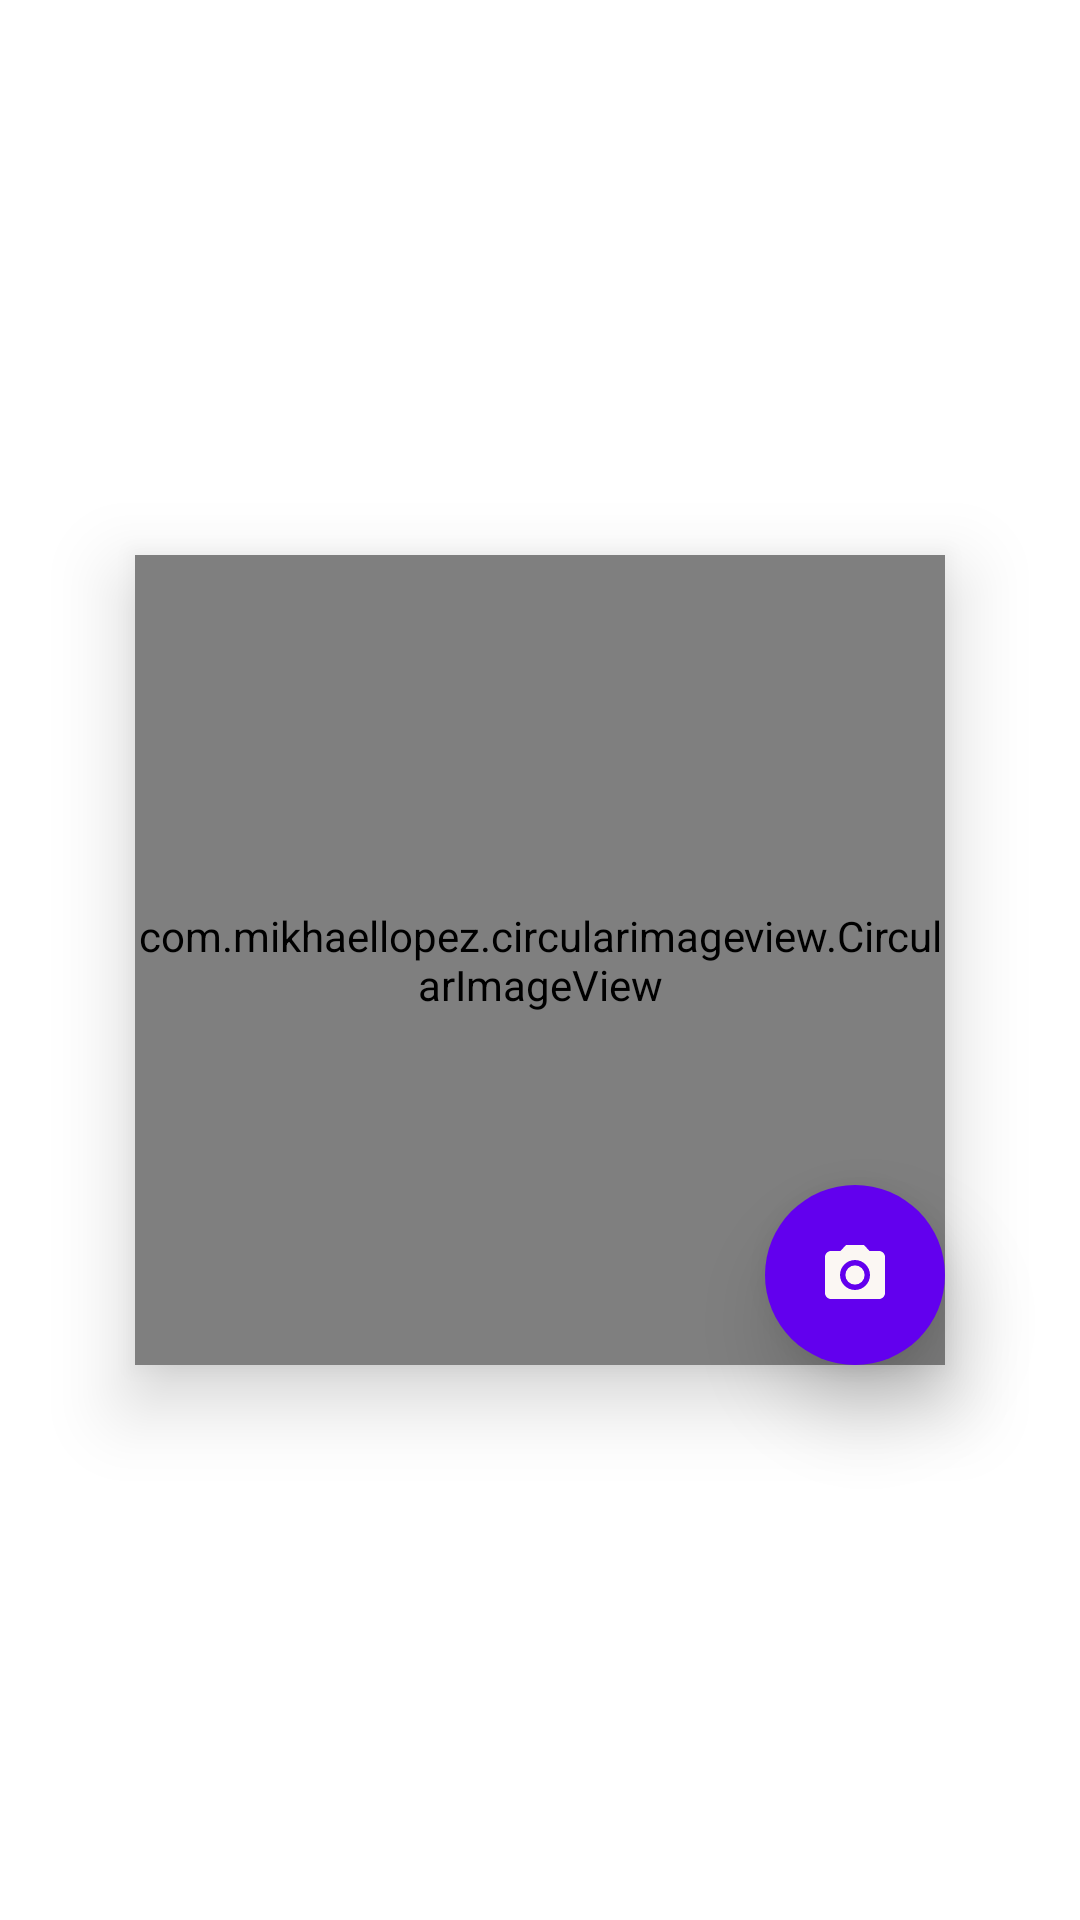

Screen size 1080px×1920px. Icon name, then its center in pixels as point (x, y):
photo camera: point (855, 1275)
